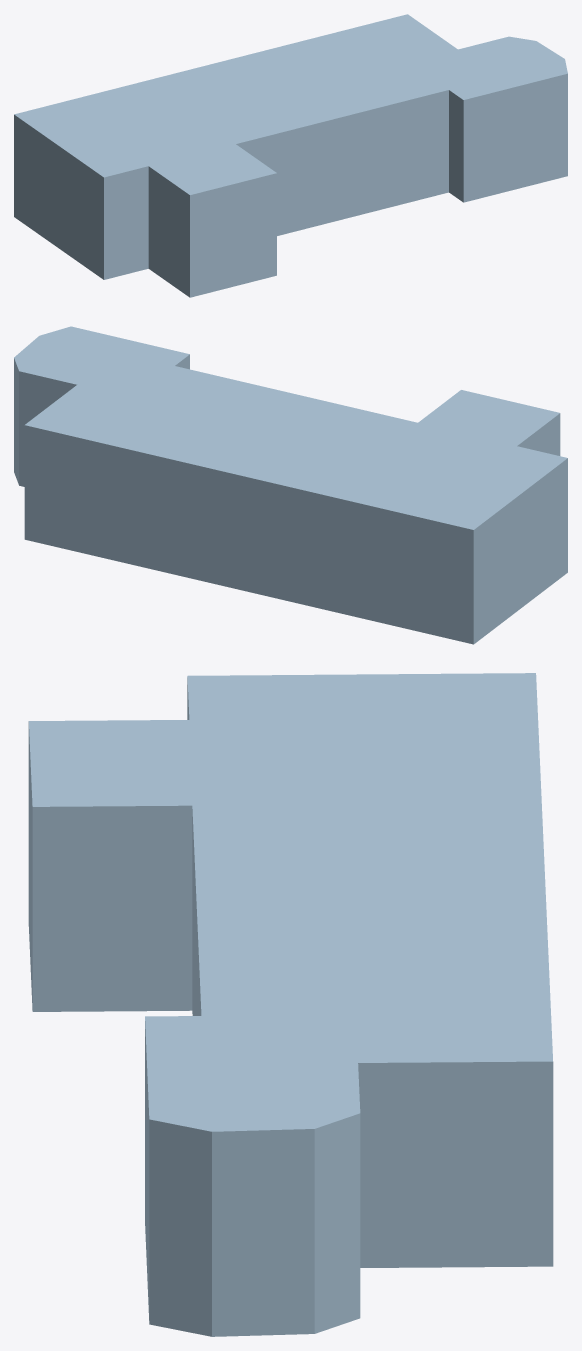
File: osm_way_223859826.glb
The picture shows the model from 3 angles, top to bottom: view 1: azimuth 30°, elevation 25°; view 2: azimuth 150°, elevation 25°; view 3: azimuth 270°, elevation 25°; orthographic projection. The views are drawn at different scales.
Parts seen in each view (by area): view 1: osm_way_223859826; view 2: osm_way_223859826; view 3: osm_way_223859826.
Boxes of the visible parts, <box> form: osm_way_223859826: <box>14,14,567,297</box>; osm_way_223859826: <box>14,326,567,644</box>; osm_way_223859826: <box>28,673,553,1336</box>.
Size of the model in its own units: 106 by 22.2 by 51.44.
